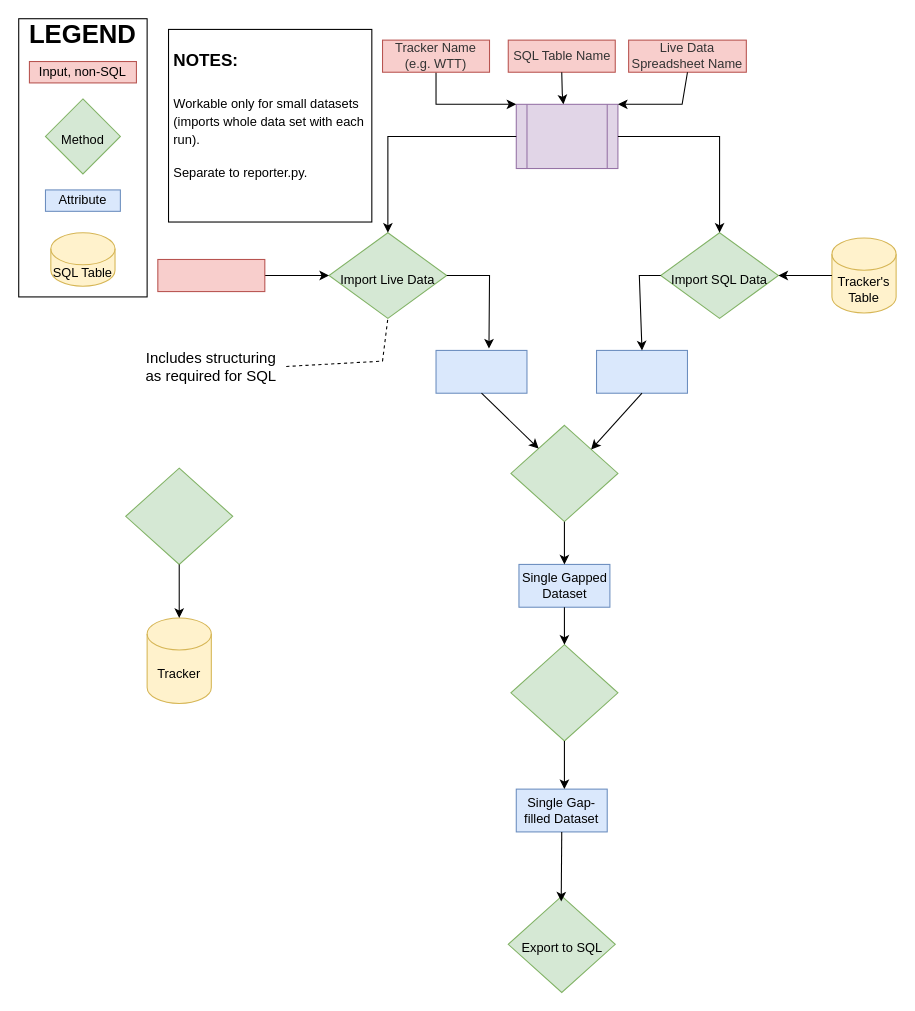
Image size: 915x1011. Some labels were removed from this diagram. Here are the shapes that lost their labels. From the top down, the box of each, then its label:
(515, 103, 618, 169): Initialise Instance
(157, 258, 265, 292): Scratch Format data - any tracker
(435, 349, 527, 393): Unprocessed Live Data
(595, 349, 687, 393): Unprocessed SQL Data
(510, 424, 618, 522): Union
(125, 467, 233, 564): Data Exporter
(510, 644, 618, 741): Gap Fill
